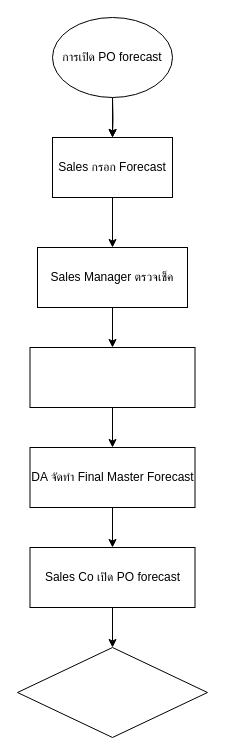
The diagram is 225 pixels wide and 755 high, and some of its shapes have lost their labels. The centre of each missing label's shape, as x and y in pixels:
"Marketing Manager ตรวจเช็ค" belongs at pixel 112 377.
"เปิดก่อนฤดูกาลของ 3-6 เดือน" belongs at pixel 112 692.
